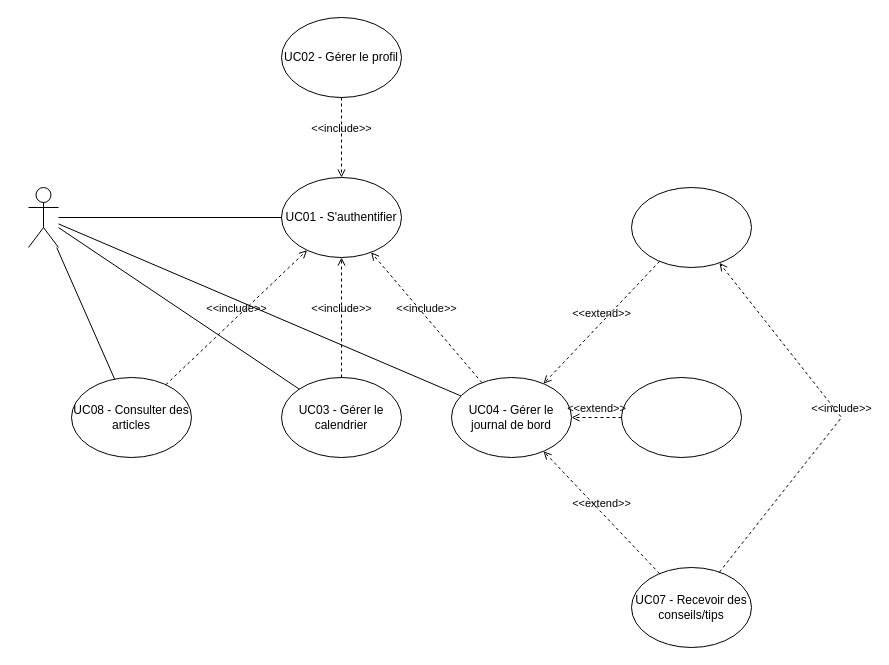
This 889x665 diagram has some shape labels left out. The centre of each missing label's shape, as x and y in pixels:
UC05 - Enregistrer les habitudes d'hygiène dentaire: the point at 691,227
UC06 - Suivre l'évolution du brossage: the point at 681,417
Utilisateur: the point at 43,217
